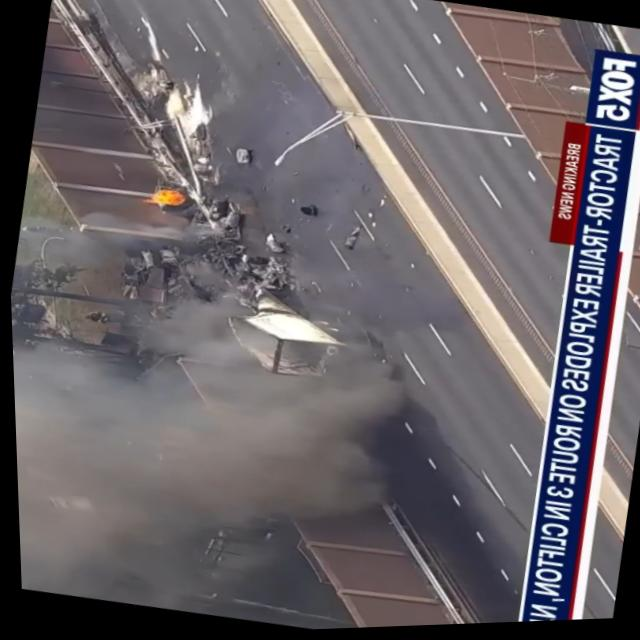Fire: (139, 176, 191, 216)
